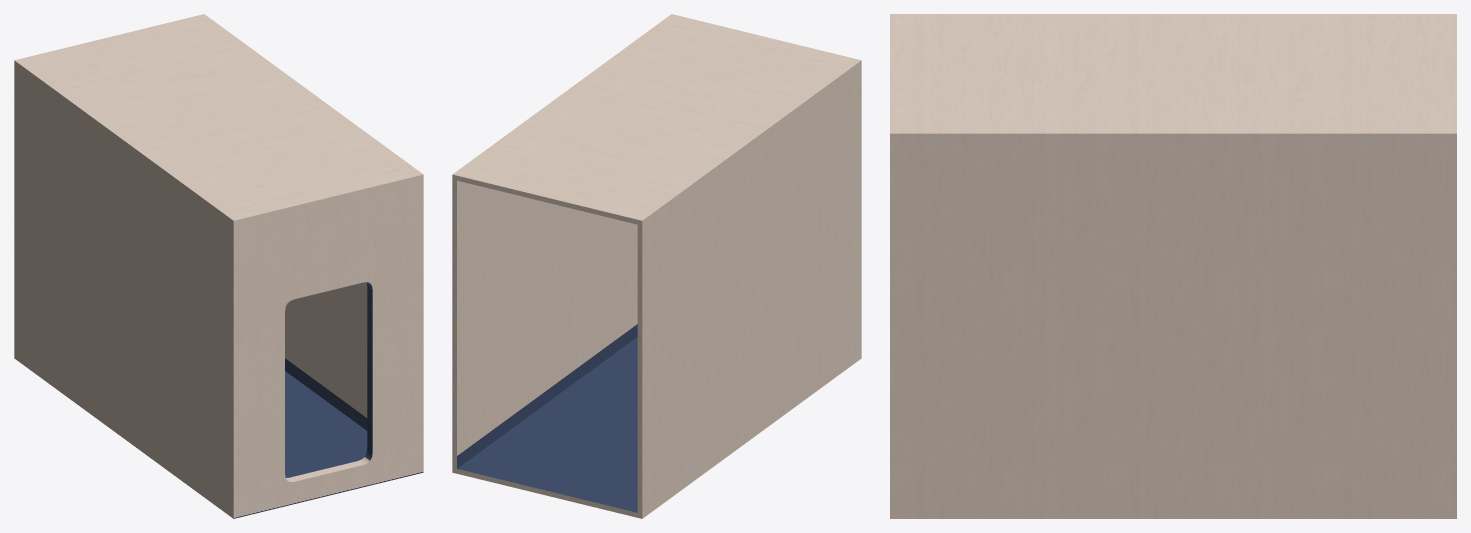
File: corridor_capDoor.fbx
The picture shows the model from 3 angles, left to right: view 1: azimuth 30°, elevation 25°; view 2: azimuth 150°, elevation 25°; view 3: azimuth 270°, elevation 25°; orthographic projection. The views are drawn at different scales.
Visible parts, largest first — view 1: corridor_capDoor; view 2: corridor_capDoor; view 3: corridor_capDoor.
Boxes of the visible parts, bbox=[...] form: corridor_capDoor: bbox=[14, 14, 423, 518]; corridor_capDoor: bbox=[452, 14, 861, 518]; corridor_capDoor: bbox=[890, 14, 1456, 518].
Size of the model in its own units: 200 by 300 by 400.
